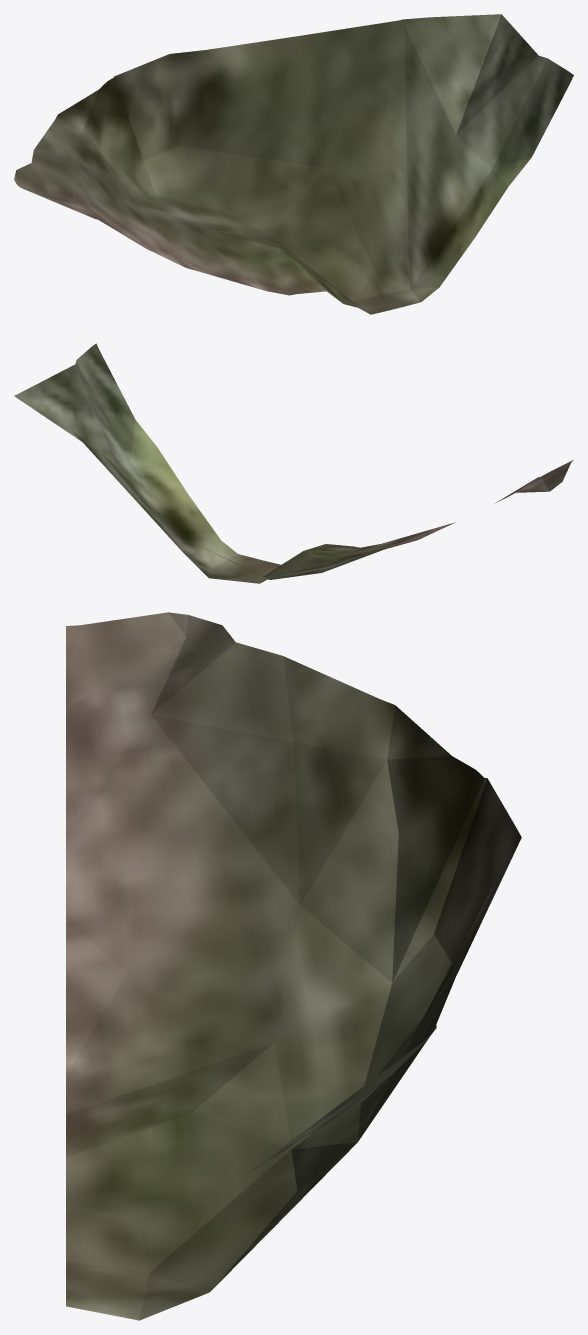
The picture shows the model from 3 angles, top to bottom: view 1: azimuth 30°, elevation 25°; view 2: azimuth 150°, elevation 25°; view 3: azimuth 270°, elevation 25°; orthographic projection. The views are drawn at different scales.
Size of the model in its own units: 0.9395 by 0.3242 by 0.3712.
1 material, 1 textured.
